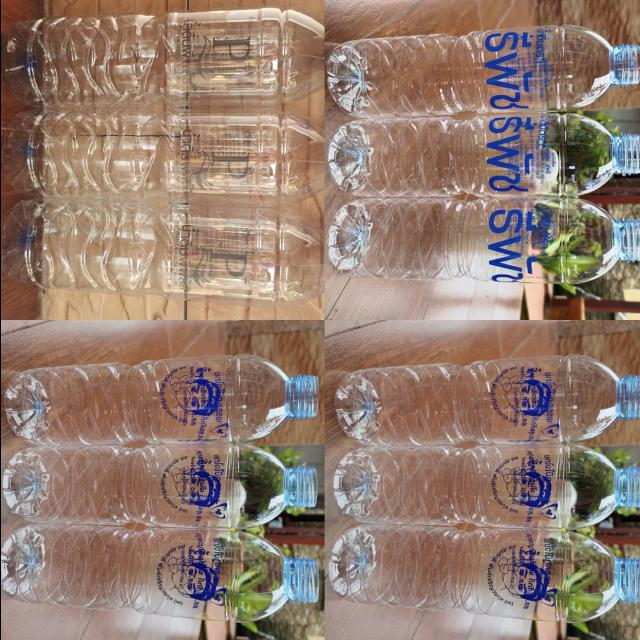plastik: (0, 198, 329, 306), (0, 8, 324, 107), (0, 108, 324, 204), (327, 524, 640, 622), (0, 525, 317, 620), (326, 25, 639, 118), (4, 355, 317, 445), (334, 355, 640, 445), (327, 198, 640, 284), (326, 113, 640, 197), (3, 445, 316, 529), (333, 445, 640, 529)
